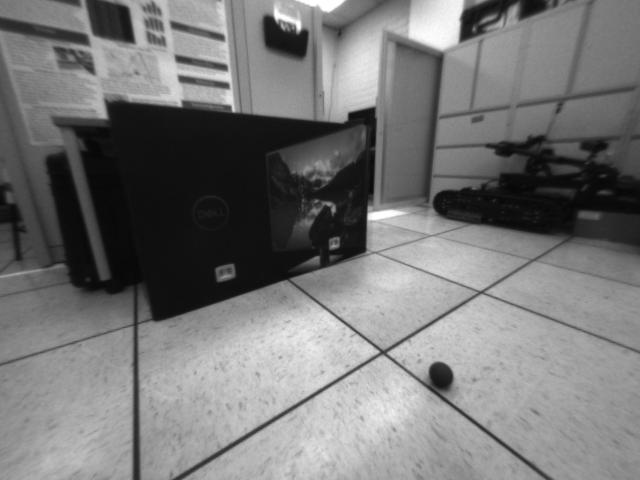dogtoy: (422, 356, 460, 393)
